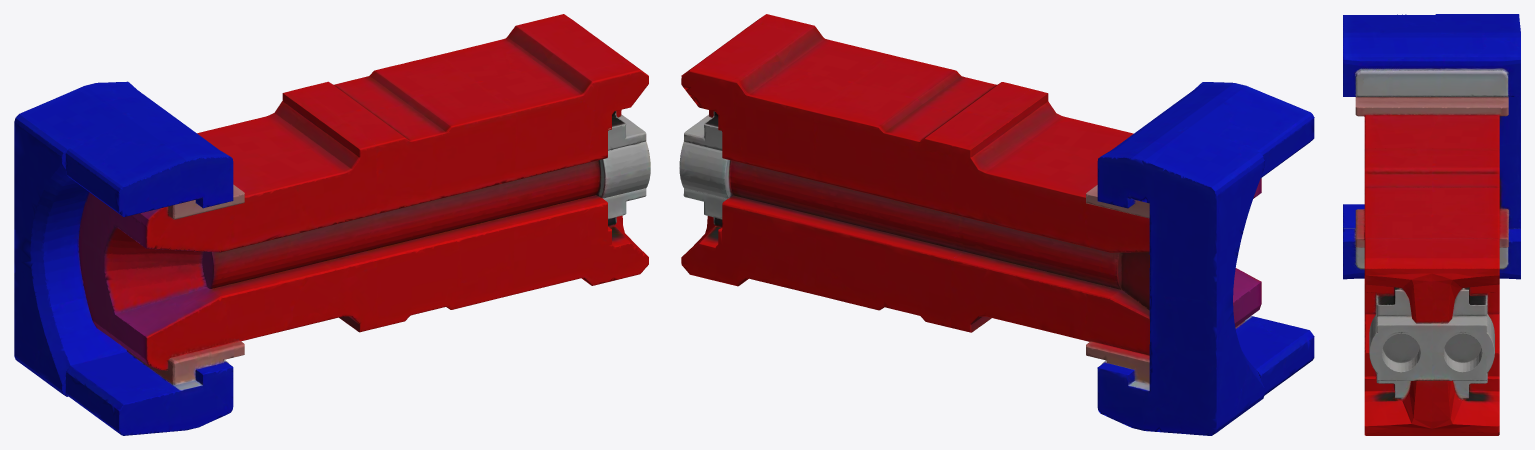
Rendered from adaptadorEstrangulacion.glb.
3 renders of one model, left to right at view 1: azimuth 30°, elevation 25°; view 2: azimuth 150°, elevation 25°; view 3: azimuth 270°, elevation 25°, orthographic. The views are drawn at different scales.
Visible parts, largest first — view 1: tripo_node_e255119f-a490-40e3-b28c-0c2aed8ff6b3; view 2: tripo_node_e255119f-a490-40e3-b28c-0c2aed8ff6b3; view 3: tripo_node_e255119f-a490-40e3-b28c-0c2aed8ff6b3.
Boxes of the visible parts, left/top/right/bottom form: tripo_node_e255119f-a490-40e3-b28c-0c2aed8ff6b3: left=14, top=14, right=650, bottom=435; tripo_node_e255119f-a490-40e3-b28c-0c2aed8ff6b3: left=679, top=14, right=1314, bottom=435; tripo_node_e255119f-a490-40e3-b28c-0c2aed8ff6b3: left=1343, top=14, right=1520, bottom=435.
Bounding box in the file's own units: 0.979 × 0.4581 × 0.3154.
Materials: 1 (1 with a texture image).
